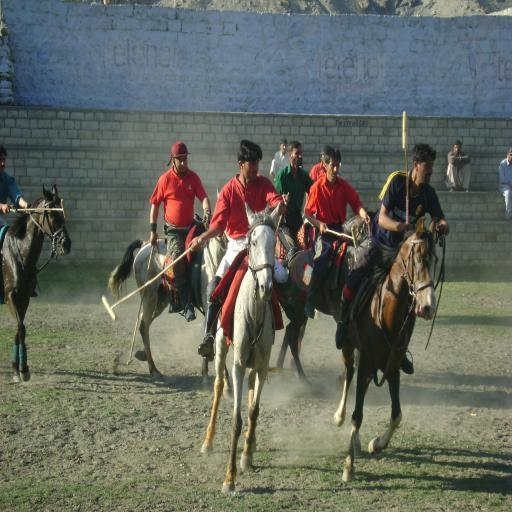horse: (106, 186, 438, 496), (0, 184, 74, 387)
